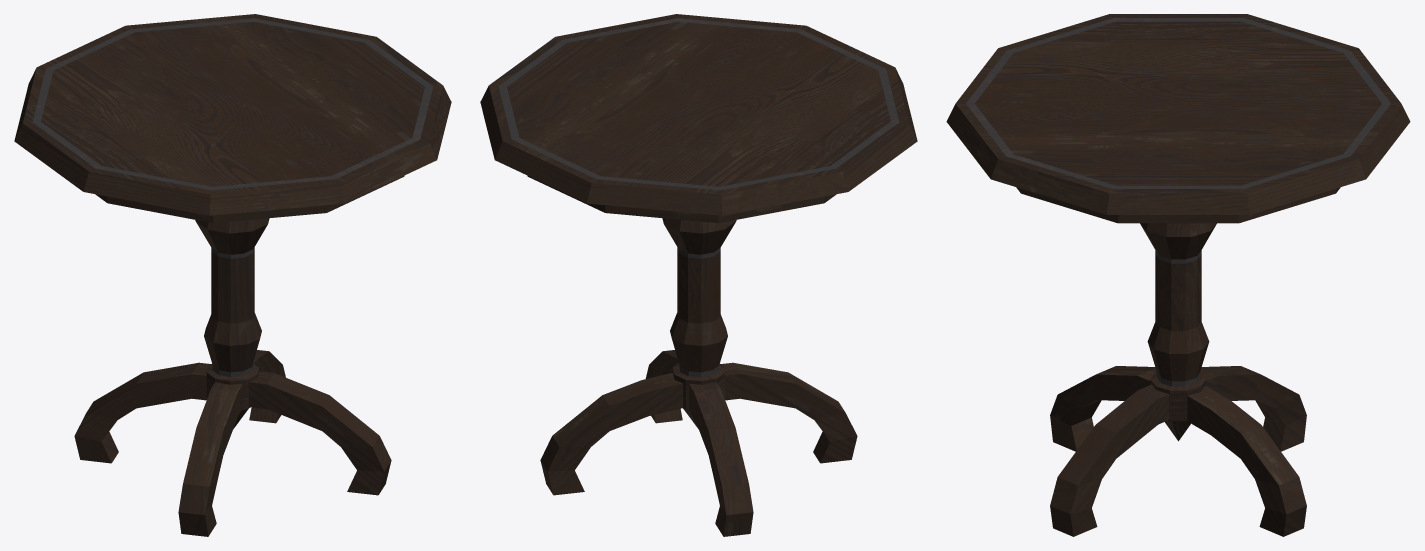
Rendered from round table.glb.
3 renders of one model, left to right at view 1: azimuth 30°, elevation 25°; view 2: azimuth 150°, elevation 25°; view 3: azimuth 270°, elevation 25°, orthographic. The views are drawn at different scales.
Parts seen in each view (by area): view 1: sidetable; view 2: sidetable; view 3: sidetable.
Boxes of the visible parts, x1,y1,x2,y2 form: sidetable: (14,14,451,536); sidetable: (480,14,917,536); sidetable: (946,14,1410,536).
Size of the model in its own units: 0.5922 by 0.565 by 0.6227.
2 materials, 2 textured.
